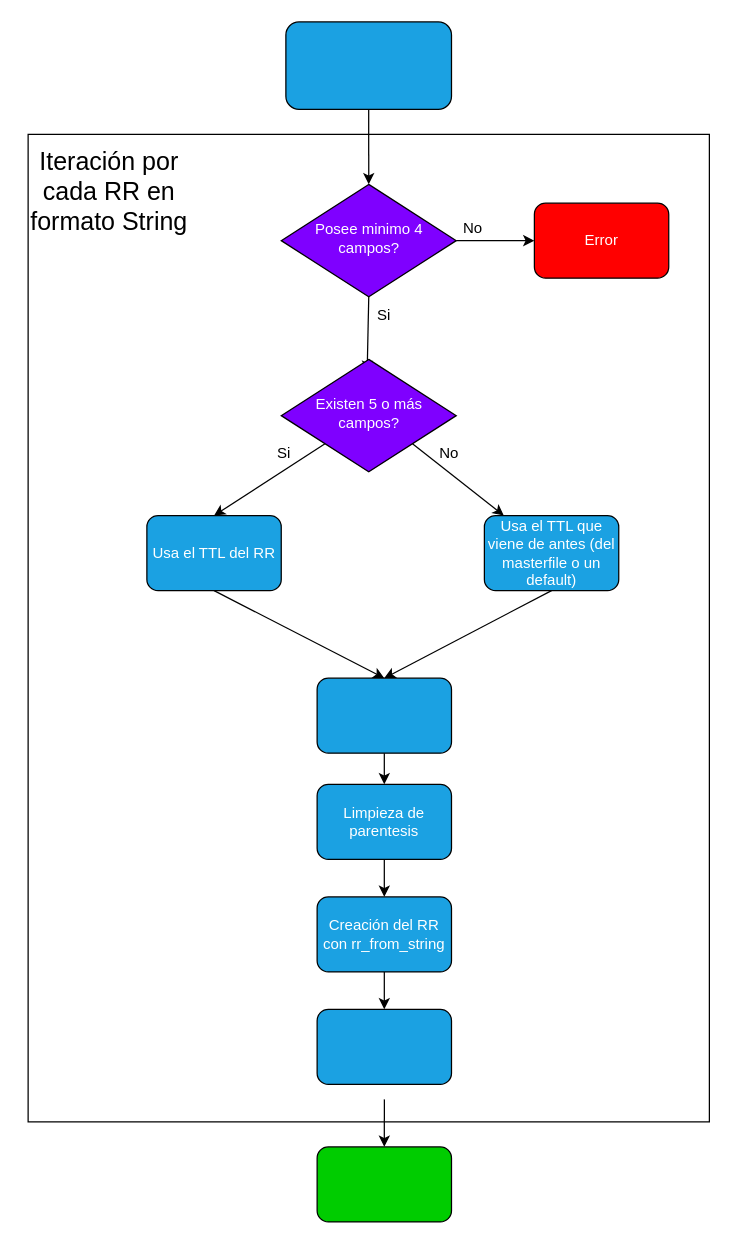
This 731x1244 diagram has some shape labels left out. Here are the shapes that lost their labels. From the top down, the centre of each, then its label:
At point 368,65: "Inicializar Vector de salida".
At point 384,715: "Extacción de los campos".
At point 384,1046: "Agregar el RR al vector de salida".
At point 384,1184: "Retornar el vector de RR's".
